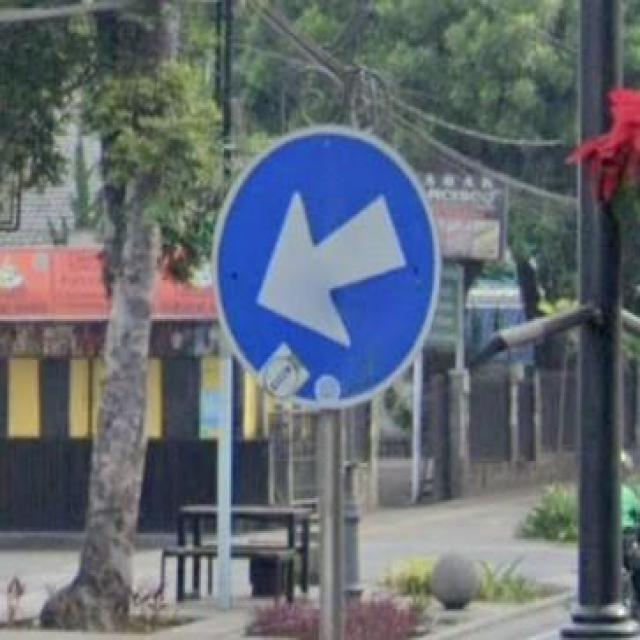traffic sign: (222, 132, 433, 406)
